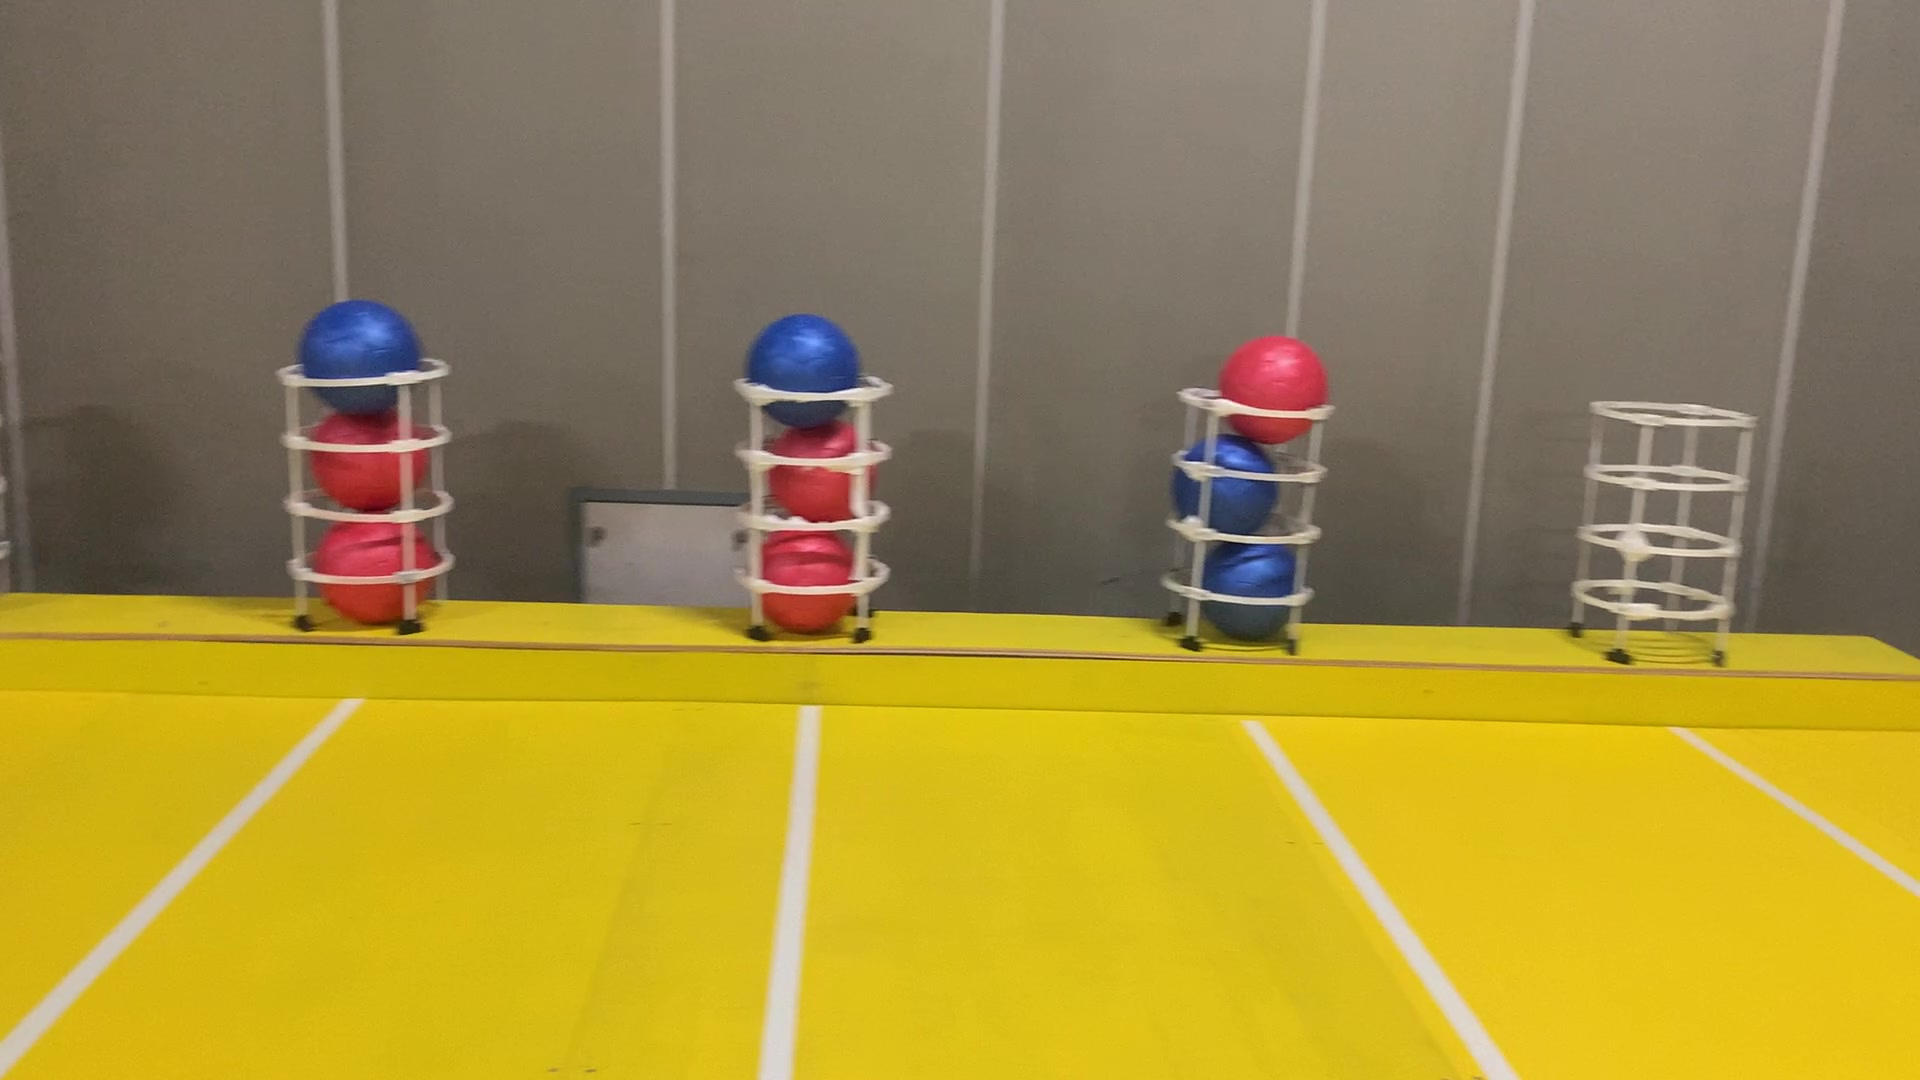blue: (737, 298, 862, 418), (289, 298, 418, 411), (1185, 530, 1311, 644), (1170, 426, 1290, 537)
red: (310, 398, 434, 517), (744, 521, 866, 640), (314, 508, 436, 625), (1217, 326, 1333, 443), (756, 414, 885, 517)
